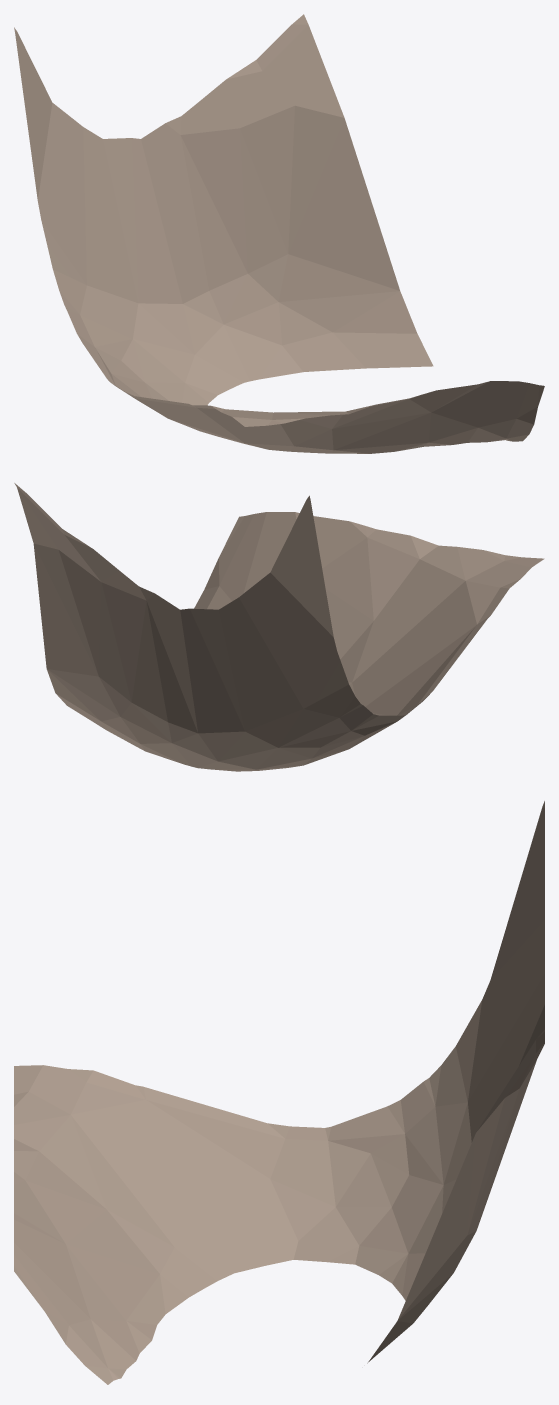
Rendered from bisect-9-1-7.gltf.
3 views of the same model, one above another, from view 1: azimuth 30°, elevation 25°; view 2: azimuth 150°, elevation 25°; view 3: azimuth 270°, elevation 25° (orthographic). The views are drawn at different scales.
Parts seen in each view (by area): view 1: bisect-9-1-7; view 2: bisect-9-1-7; view 3: bisect-9-1-7.
Part boxes in pixels (x1=…): bisect-9-1-7: x1=14, y1=14, x2=544, y2=453; bisect-9-1-7: x1=14, y1=483, x2=544, y2=771; bisect-9-1-7: x1=14, y1=801, x2=544, y2=1384.
Size of the model in its own units: 16.44 by 16.88 by 20.
